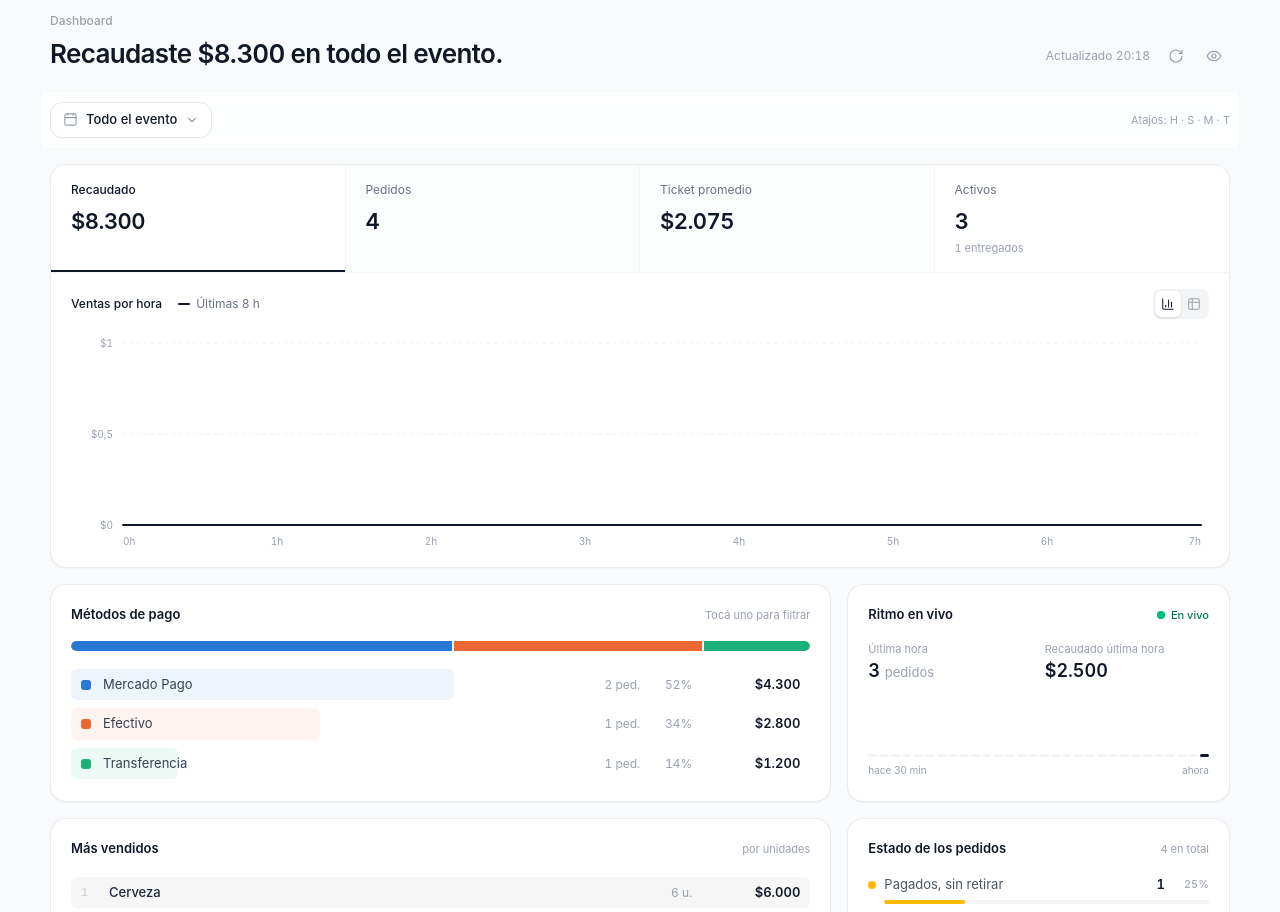
DashboardView › oculta los montos y recuerda la preferencia
Expected: the heading "Estado de los pedidos" is shown, [868,839,1006,859]
Click the button named "Ocultar montos". click: (1214, 56)
box: [1198,40,1230,72]
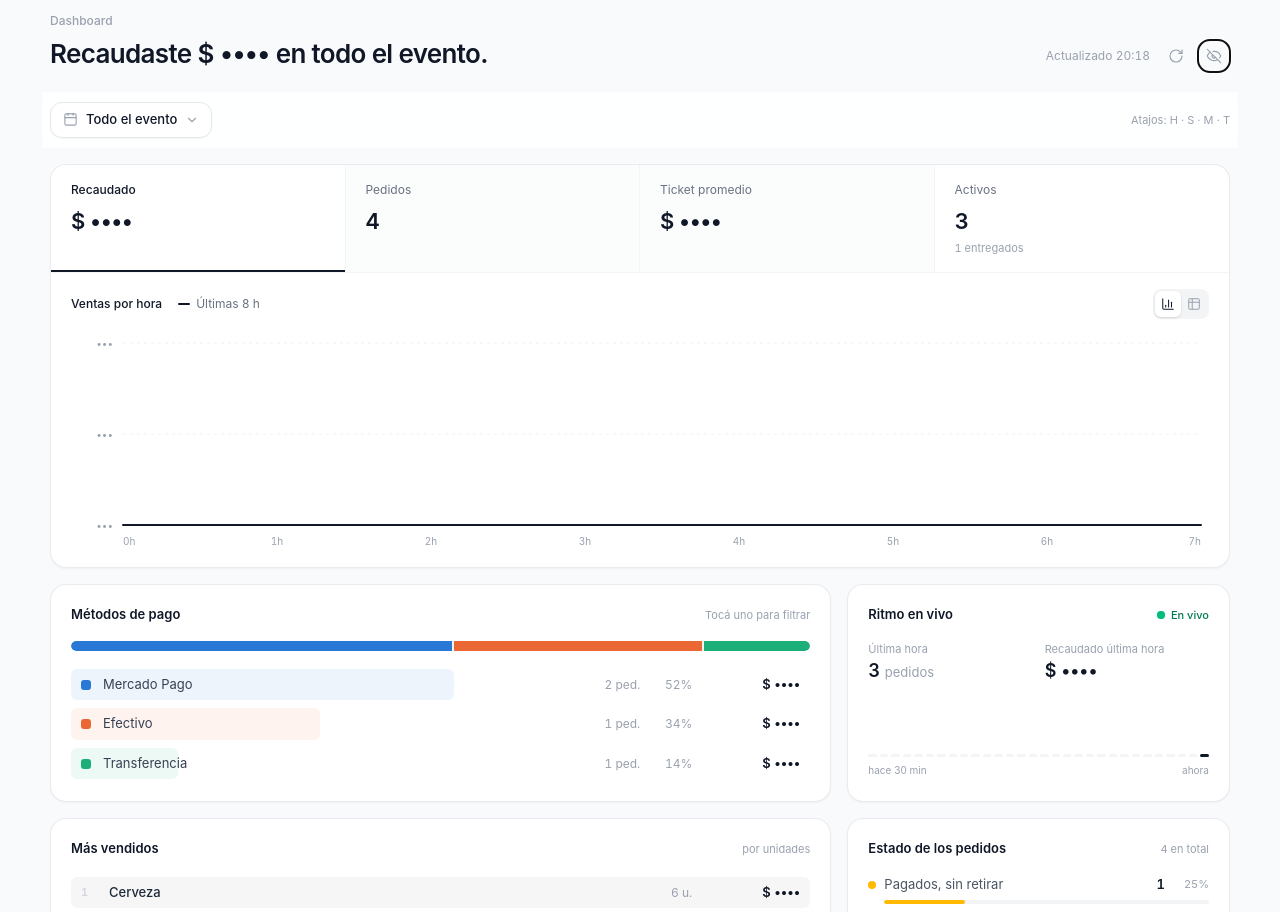
Now the text named "Monto oculto" is shown, box [197,38,270,69]
